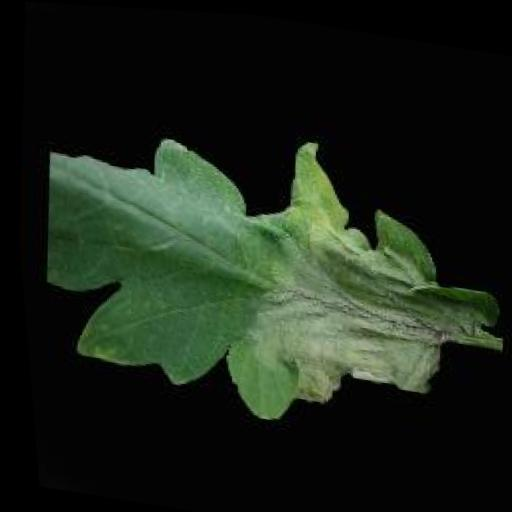Late Blight: (18, 99, 512, 454)
